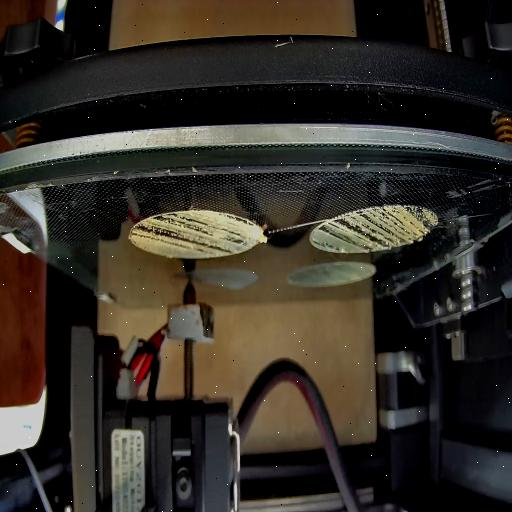under_extrusion: (314, 206, 436, 251), (130, 214, 254, 258)
